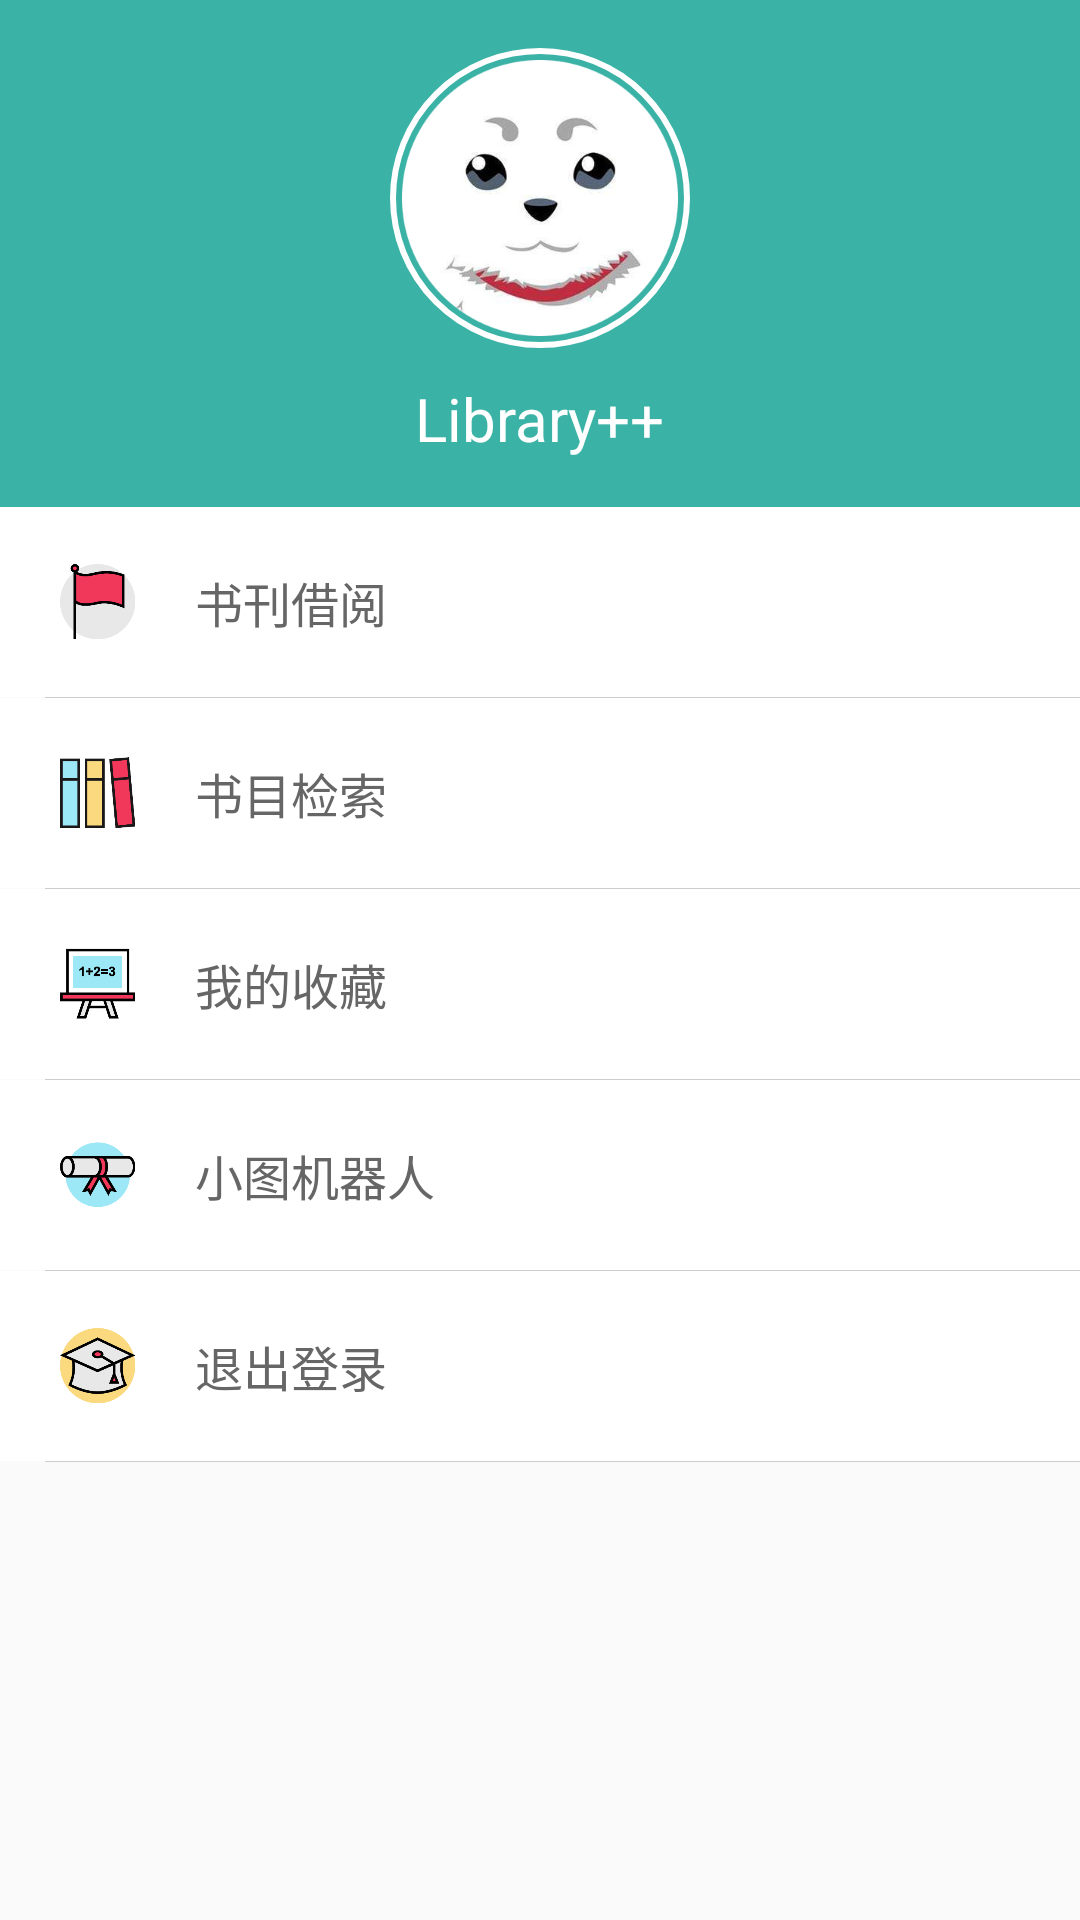

Screen size 1080*1920. Icon name, then its center in pixels as point (x, y):
blackbord: point (97, 984)
book: point (97, 792)
certificate: point (97, 1174)
dog circle: point (540, 198)
flag: point (97, 601)
hat: point (97, 1365)
